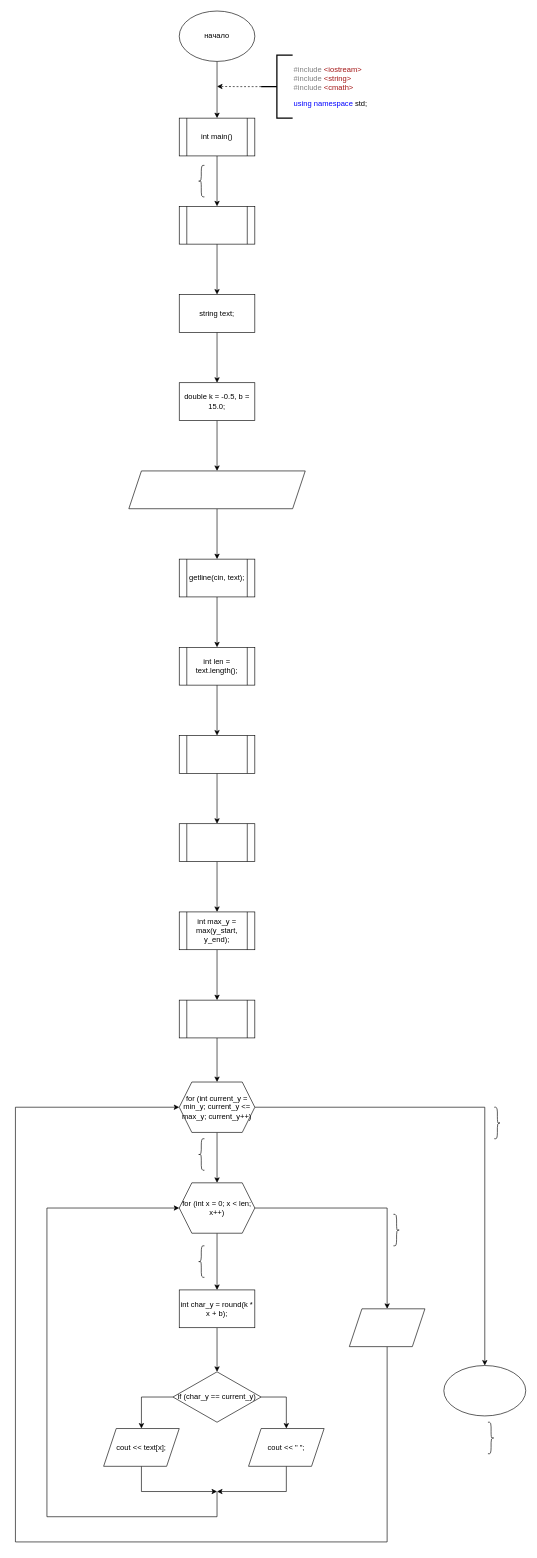
Image size: 537x1558. Some labels were removed from this diagram. Each missing label, with the centre of its shape:
cout << "Введите предложение (допустимы русские буквы и знаки препинания):\n";: point (216, 489)
cout << '\n';: point (387, 1327)
int min_y = min(y_start, y_end);: point (217, 1018)
int y_end = round(k * (len - 1) + b);: point (217, 842)
int y_start = round(k * 0 + b);: point (217, 754)
return 0;: point (484, 1390)
setlocale(LC_ALL, "ru");: point (217, 225)
